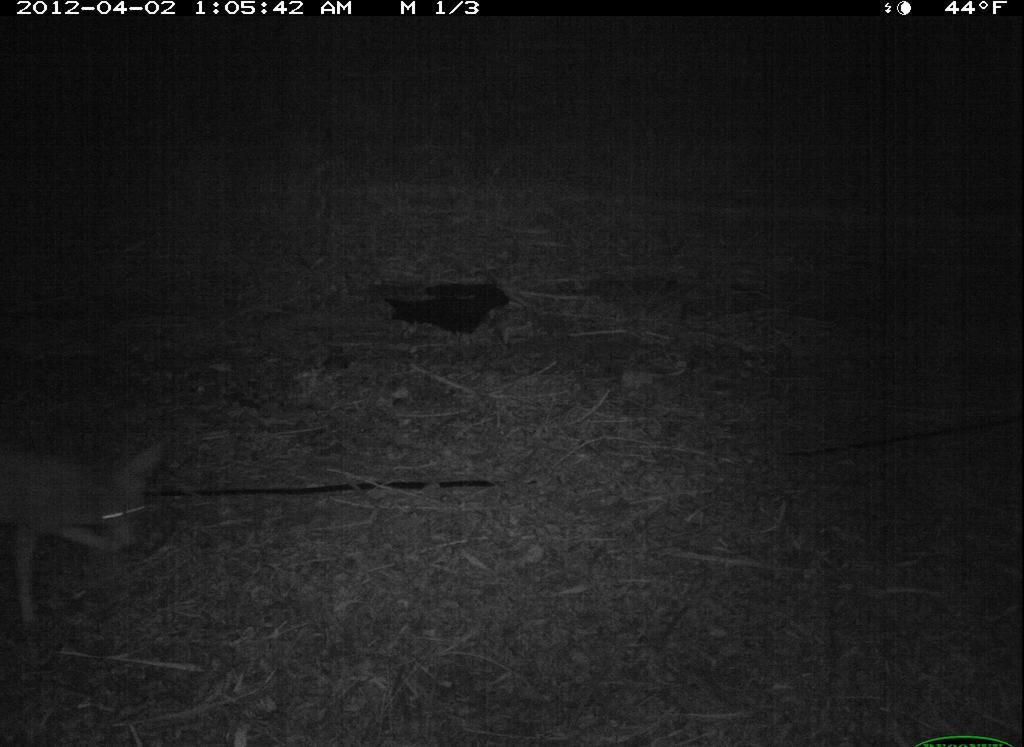coyote: (1, 431, 180, 633)
